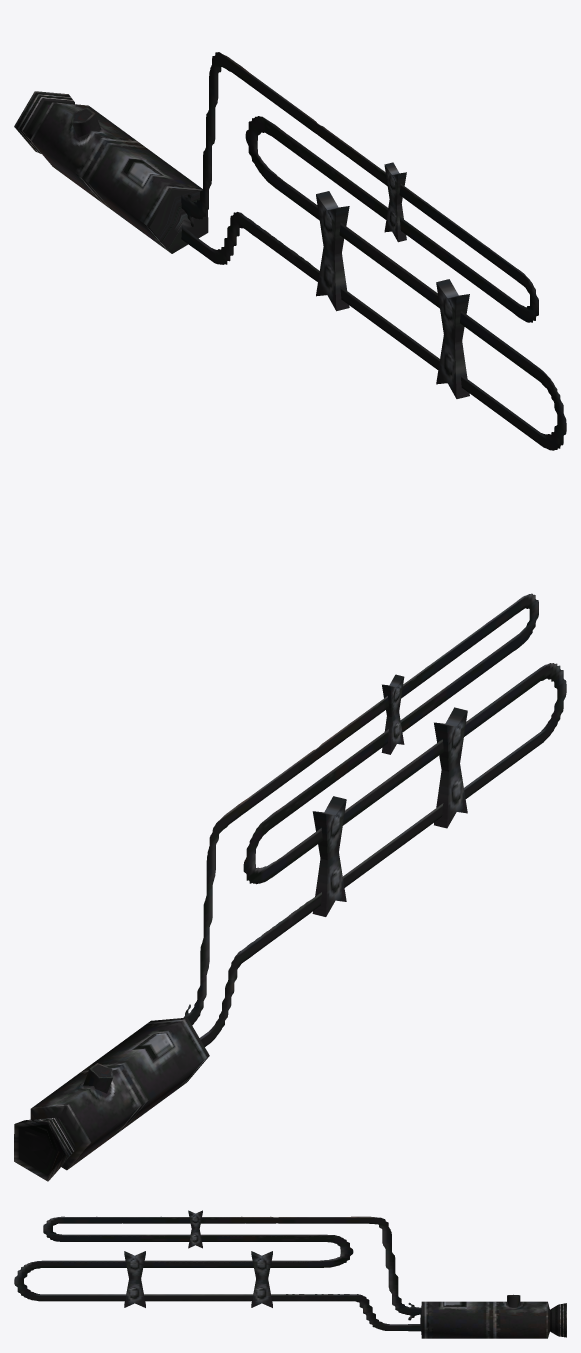
File: eqp_tool_sensor_frequency_jammer_l0.fbx
3 renders of one model, top to bottom at view 1: azimuth 30°, elevation 25°; view 2: azimuth 150°, elevation 25°; view 3: azimuth 270°, elevation 25°, orthographic. The views are drawn at different scales.
Parts seen in each view (by area): view 1: mesh_node; view 2: mesh_node; view 3: mesh_node.
Part boxes in pixels (x1,y1,x2,y2): mesh_node: (14, 52, 566, 450); mesh_node: (14, 593, 566, 1181); mesh_node: (14, 1210, 566, 1338).
Size of the model in its own units: 0.0364 by 0.142 by 0.5611.
